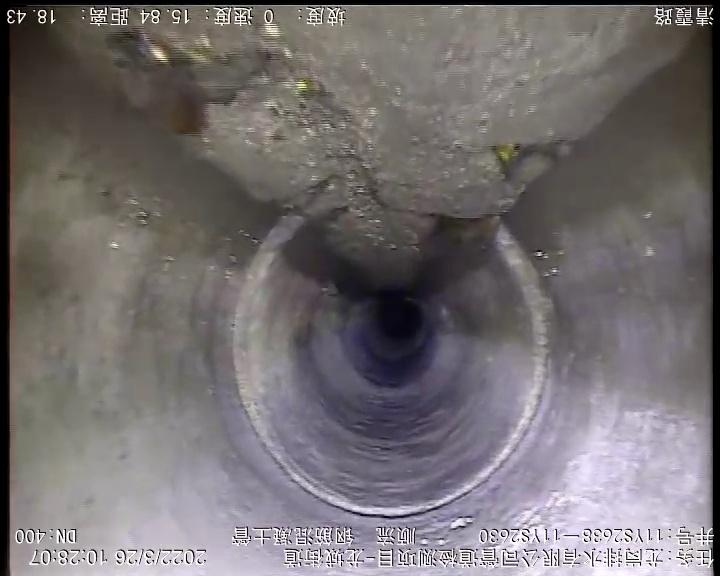CJ: (51, 7, 712, 287)
CKTJ: (233, 213, 553, 517)
